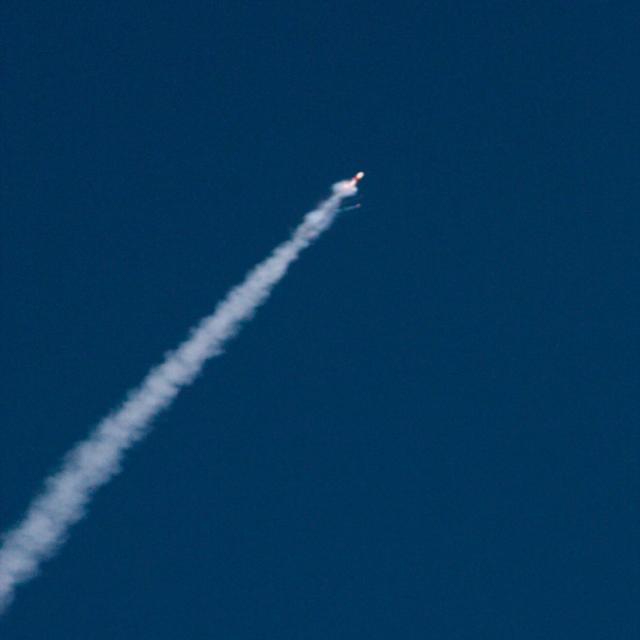Rocket: (344, 170, 366, 188)
